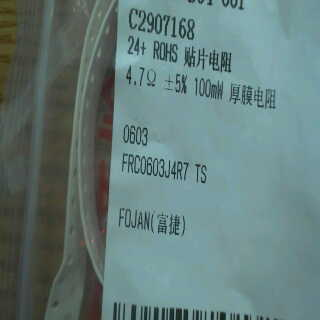4.7R: (120, 64, 159, 90)
